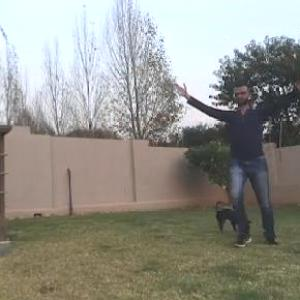takeoff: (178, 78, 299, 254)
